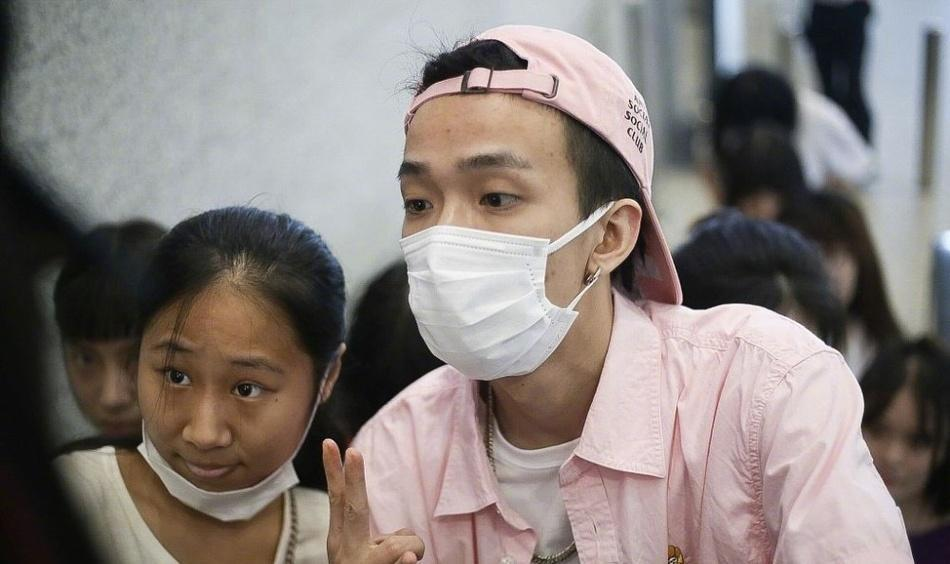NONE: (73, 322, 163, 447), (860, 416, 935, 504)
OK: (391, 148, 613, 370)
WRONG: (135, 322, 320, 517)
